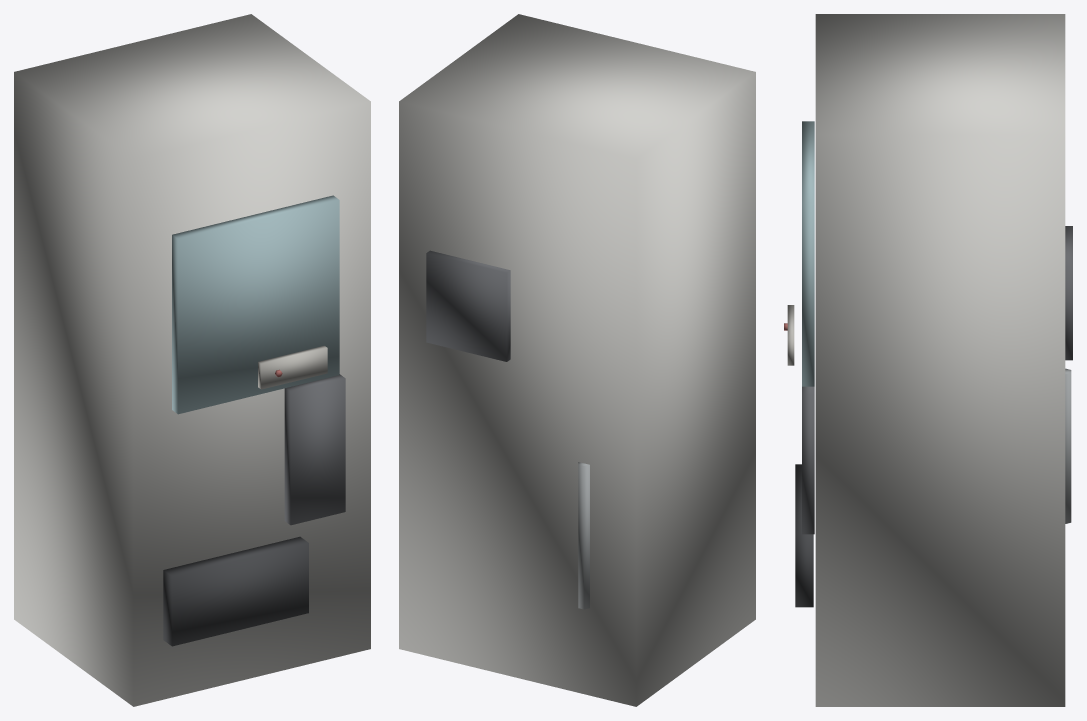
Rendered from motel_ice_machine__service.glb.
3 renders of one model, left to right at view 1: azimuth 30°, elevation 25°; view 2: azimuth 150°, elevation 25°; view 3: azimuth 270°, elevation 25°, orthographic. The views are drawn at different scales.
Parts seen in each view (by area): view 1: world; view 2: world; view 3: world.
Boxes of the visible parts, x1=… form: world: x1=14, y1=14, x2=370, y2=706; world: x1=399, y1=14, x2=755, y2=706; world: x1=784, y1=14, x2=1072, y2=706.
Size of the model in its own units: 0.78 by 1.72 by 0.7871.
